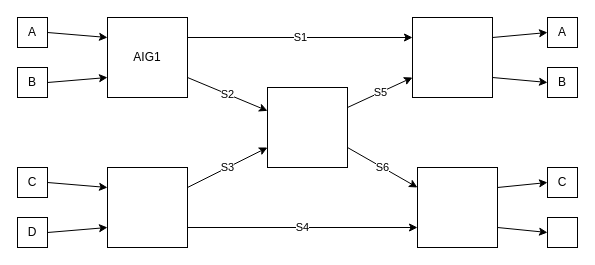
Image size: 595x265. Some labels were removed from this diagram. Each missing label, with the centre of its shape:
AIG2: the point at 147,207
AIG3: the point at 307,127
AIG4: the point at 452,57
AIG5: the point at 457,207
